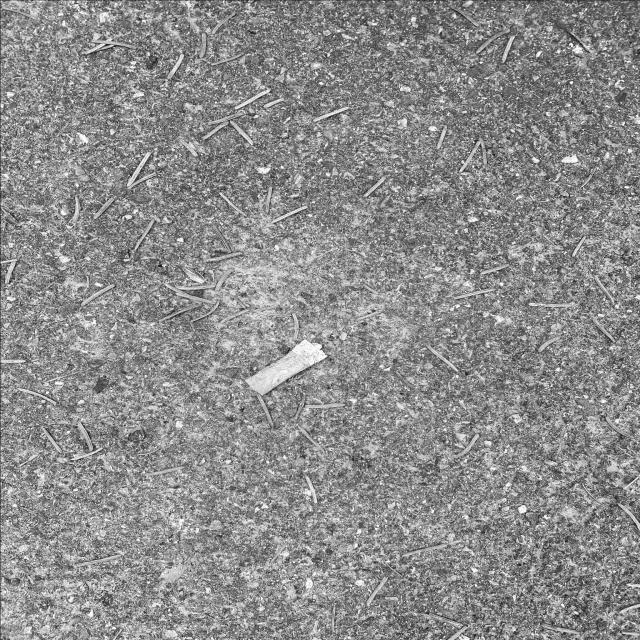other waste: (244, 339, 328, 395)
